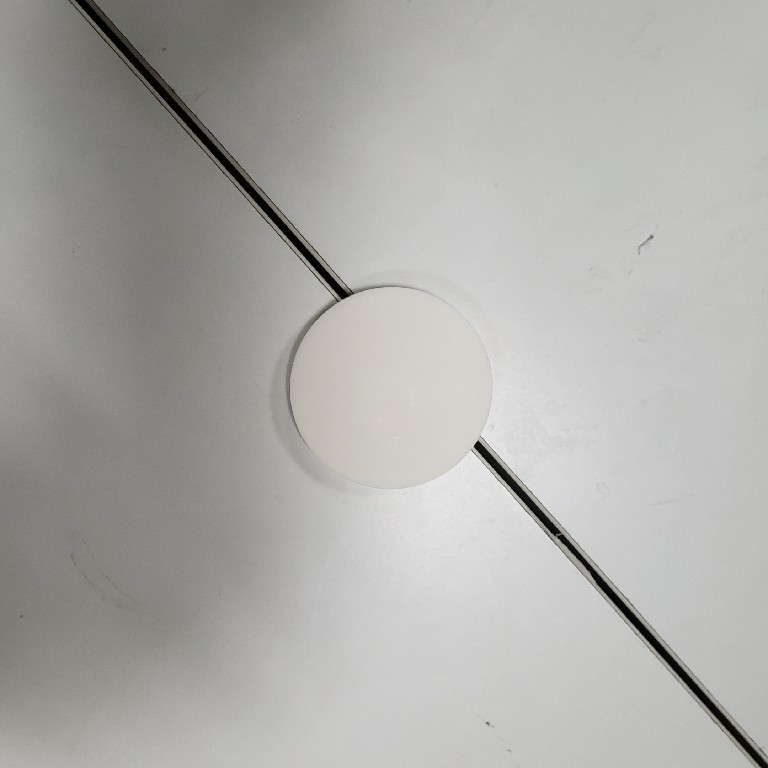ceramics: (284, 281, 496, 491)
